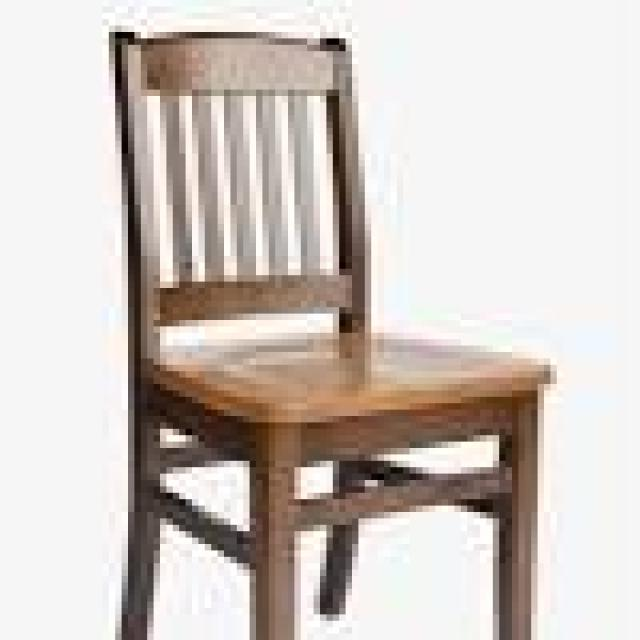chair: (65, 9, 610, 640)
